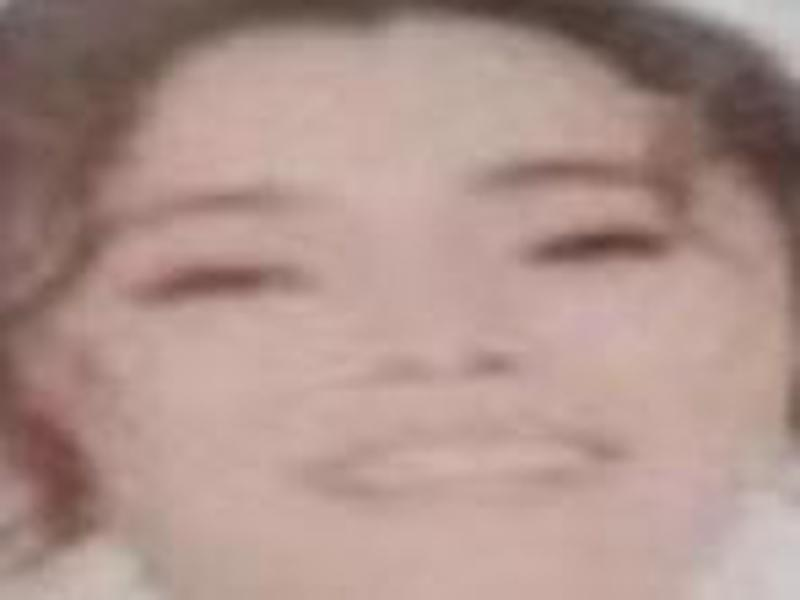without_mask: (38, 61, 789, 589)
